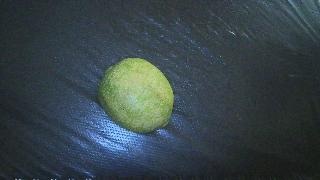DESECHO: (98, 58, 174, 133)
